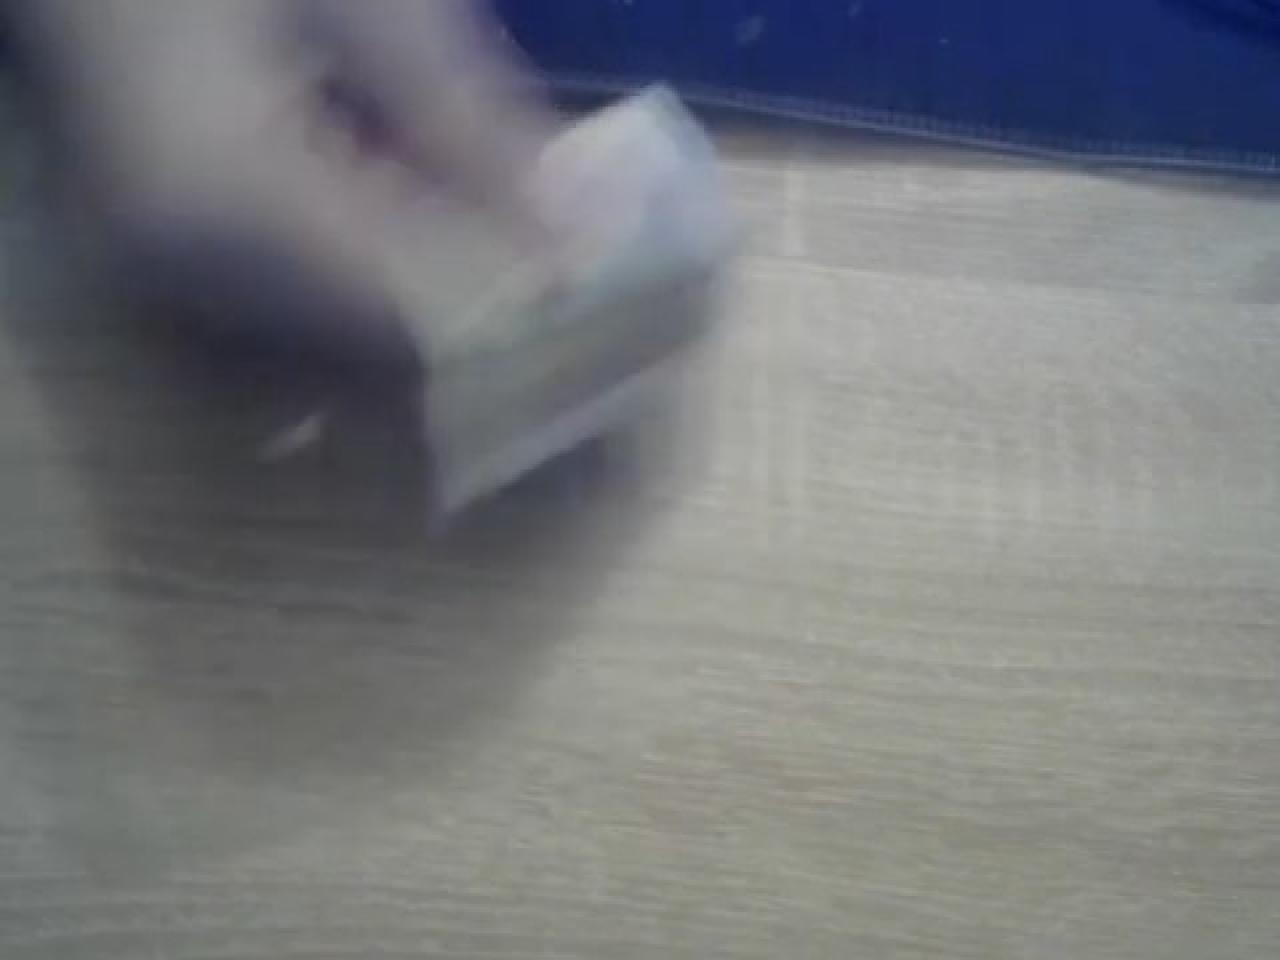10leva: (0, 0, 747, 552)
